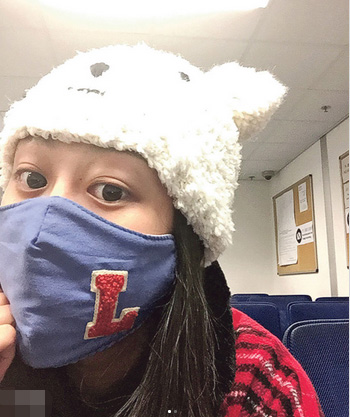mask: (2, 159, 194, 360)
